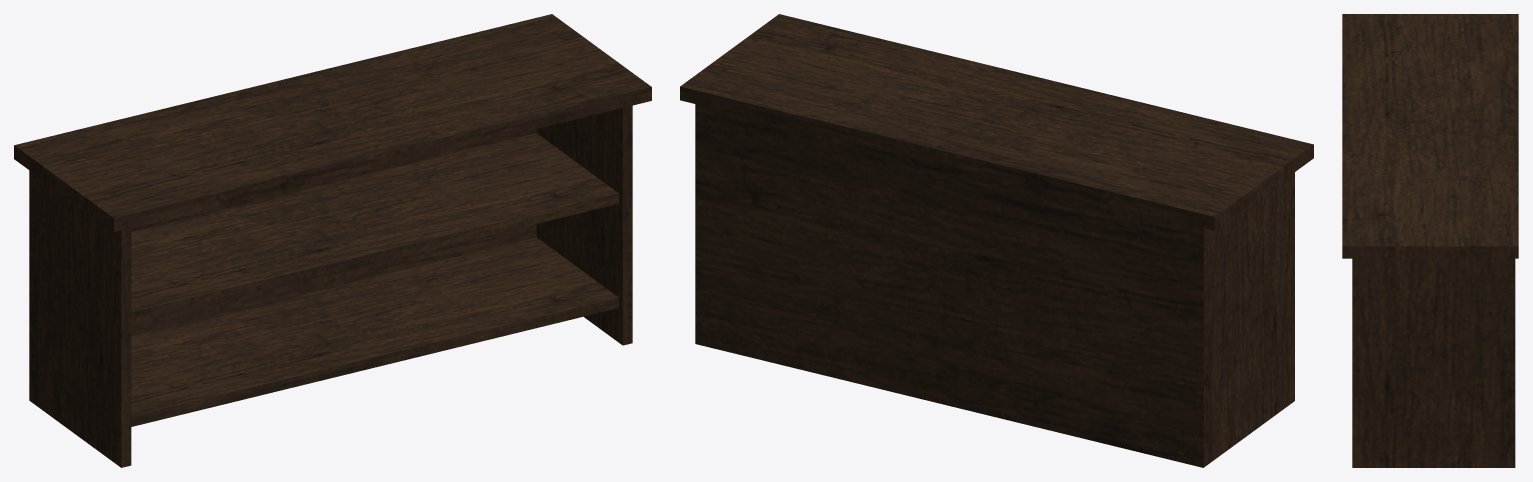
The model's file is tv_table_1_1.fbx.
3 renders of one model, left to right at view 1: azimuth 30°, elevation 25°; view 2: azimuth 150°, elevation 25°; view 3: azimuth 270°, elevation 25°, orthographic. The views are drawn at different scales.
Visible parts, largest first — view 1: tv_table_1_1; view 2: tv_table_1_1; view 3: tv_table_1_1.
Boxes of the visible parts, left/top/right/bottom form: tv_table_1_1: left=14, top=14, right=651, bottom=467; tv_table_1_1: left=680, top=14, right=1313, bottom=467; tv_table_1_1: left=1342, top=14, right=1518, bottom=467.
Bounding box in the file's own units: 1.62 × 0.52 × 0.74.
